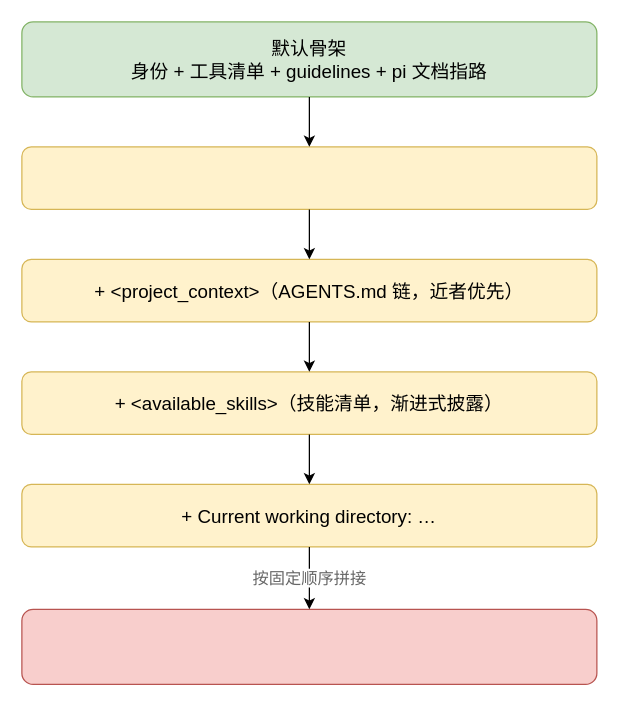
The diagram is 619 pixels wide and 706 high, and some of its shapes have lost their labels. The box of each missing label's shape, as (x1, y1, x2, y2) in pixels:
+ appendSystemPrompt（CLI --append-system-prompt / 设置）: (21, 146, 597, 209)
系统提示词（每轮实时投影，扩展可临时改写）: (21, 608, 597, 684)
